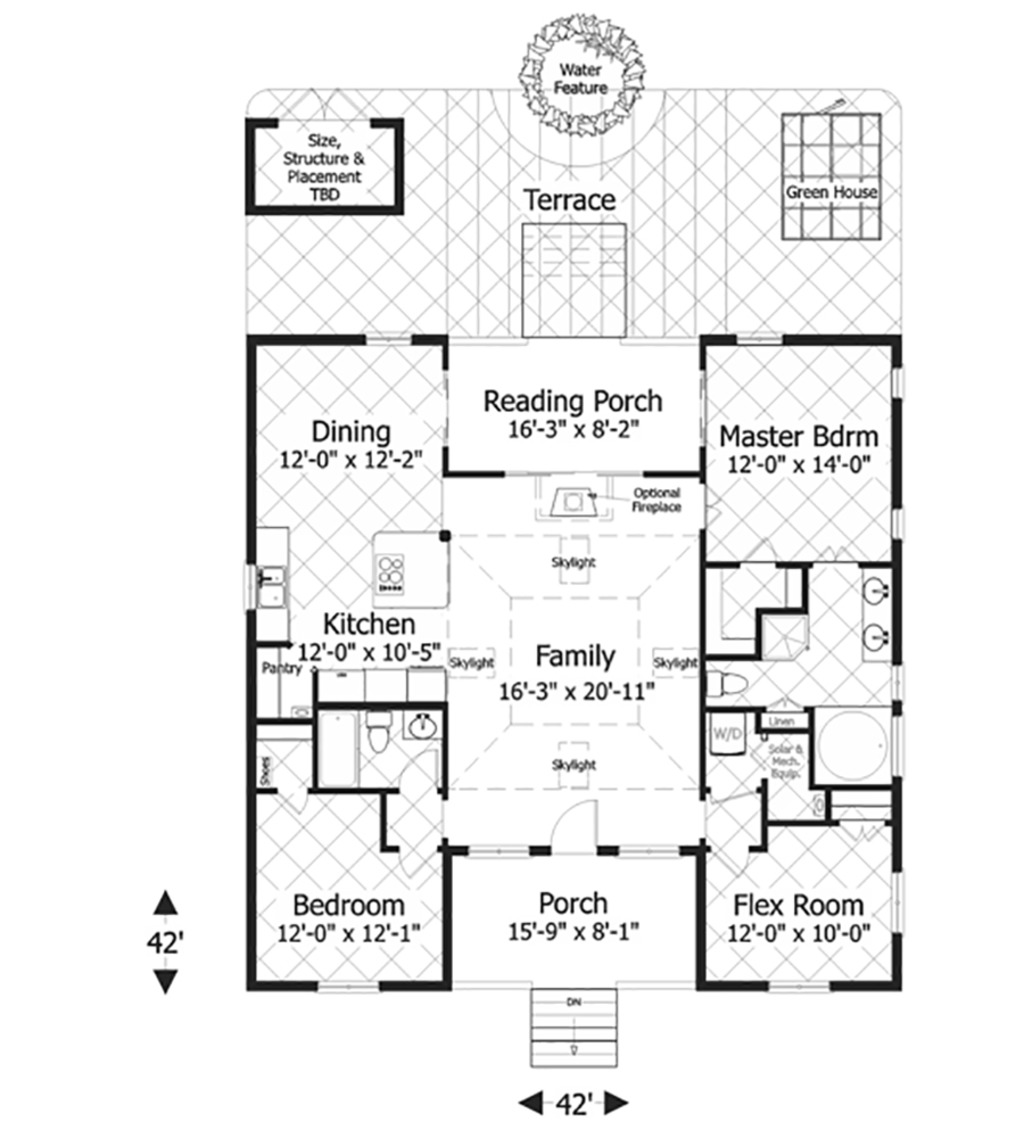door: (533, 786, 610, 862), (386, 743, 446, 793), (393, 843, 446, 886), (707, 836, 757, 879)
large_sink: (695, 658, 753, 703), (359, 701, 400, 751)
small_sink: (853, 564, 900, 669), (400, 710, 450, 739)
stairs: (533, 974, 631, 1077)
twin_sink: (250, 560, 310, 632)
window: (726, 322, 805, 360), (881, 867, 921, 936), (353, 320, 419, 360), (883, 358, 924, 412), (891, 710, 914, 791), (767, 972, 829, 998), (314, 981, 390, 1000), (886, 503, 914, 551)
